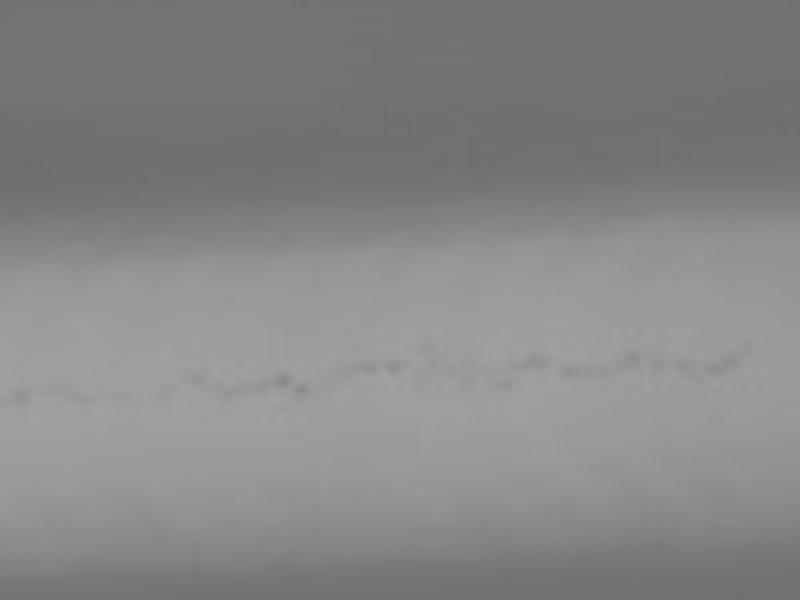defect: (222, 379, 271, 400), (711, 351, 746, 377), (621, 348, 648, 373), (517, 355, 549, 376), (8, 387, 32, 410), (559, 361, 581, 386), (359, 360, 384, 377), (289, 380, 311, 399), (388, 359, 412, 376), (187, 367, 209, 385), (273, 370, 289, 391), (416, 338, 433, 356), (678, 355, 694, 372), (498, 380, 512, 396)
